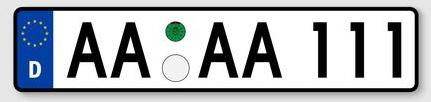1: (344, 16, 371, 81), (308, 16, 334, 81), (383, 15, 406, 79)
A: (63, 13, 108, 80), (197, 19, 240, 82), (241, 18, 284, 80), (110, 18, 151, 81)
